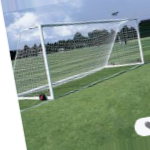goals: (13, 17, 150, 101)
